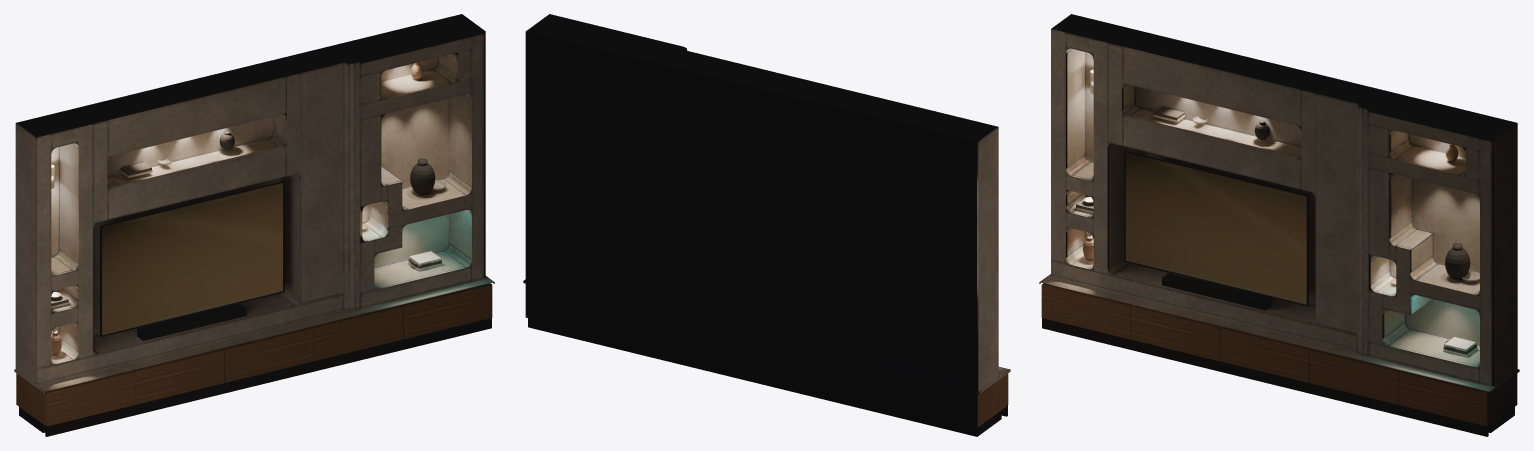
File: ent_center_bar.glb
The picture shows the model from 3 angles, left to right: view 1: azimuth 30°, elevation 25°; view 2: azimuth 150°, elevation 25°; view 3: azimuth 330°, elevation 25°; orthographic projection.
Visible parts, largest first — view 1: ent_body, ent_dark, ent_walnut, ent_decor; view 2: ent_body, ent_walnut, ent_dark; view 3: ent_body, ent_dark, ent_walnut, ent_decor.
Boxes of the visible parts, left/top/right/bottom form: ent_body: left=14, top=14, right=494, bottom=393; ent_dark: left=19, top=181, right=491, bottom=436; ent_walnut: left=16, top=283, right=492, bottom=426; ent_decor: left=51, top=62, right=446, bottom=355; ent_body: left=523, top=14, right=1010, bottom=394; ent_walnut: left=525, top=283, right=1008, bottom=427; ent_dark: left=528, top=318, right=1007, bottom=436; ent_body: left=1039, top=14, right=1519, bottom=393; ent_dark: left=1042, top=150, right=1514, bottom=436; ent_walnut: left=1041, top=283, right=1517, bottom=426; ent_decor: left=1075, top=69, right=1479, bottom=357.
Size of the model in its own units: 4.1 by 2.55 by 0.4825.
5 materials, 4 textured.
